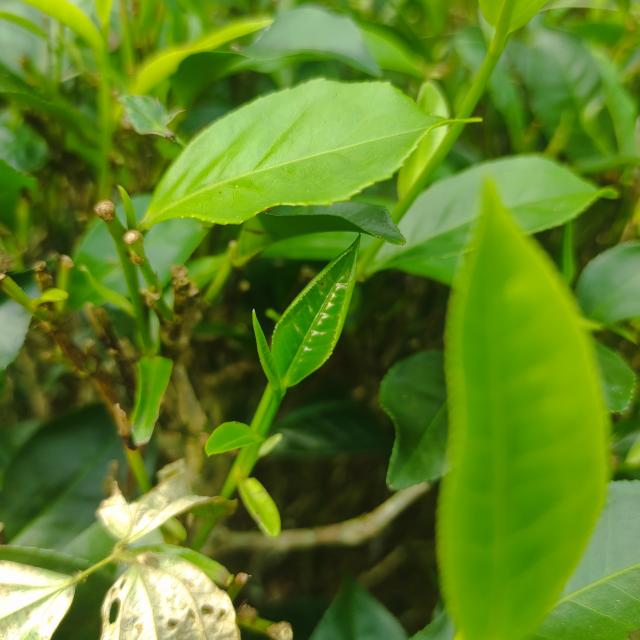unopened_leaf: (246, 298, 292, 399)
